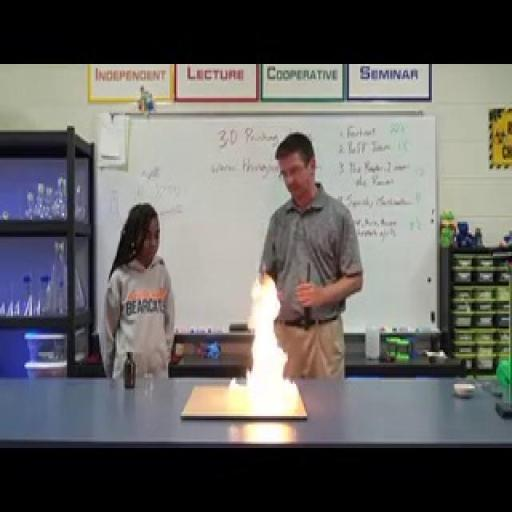smoke: (230, 237, 290, 412)
